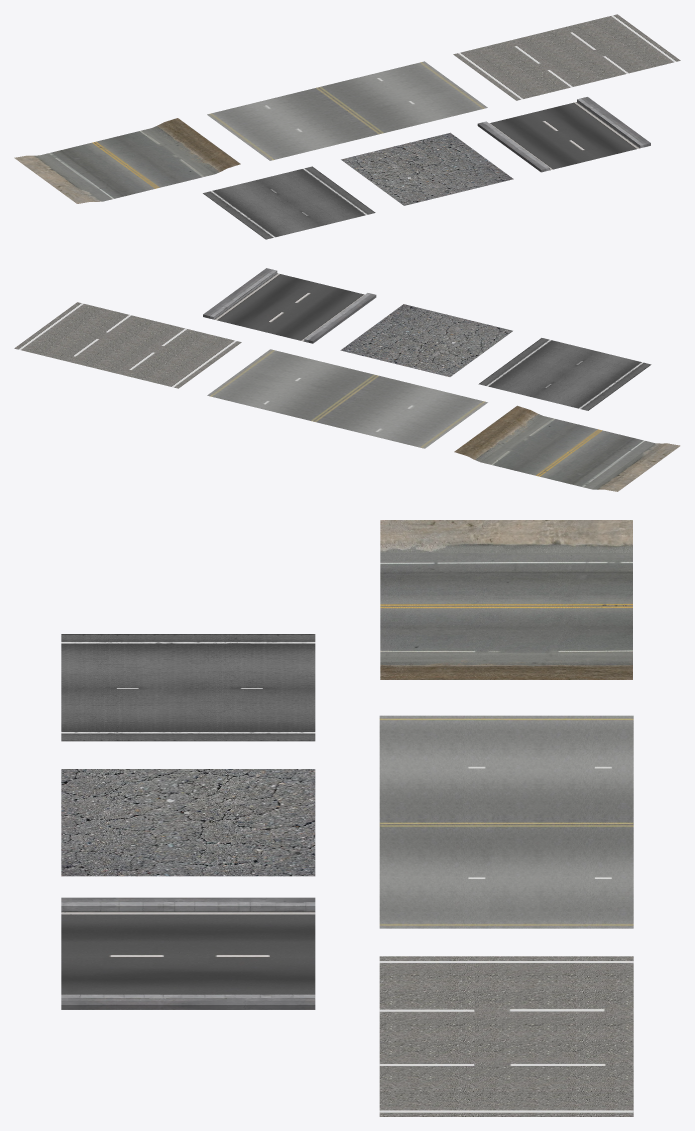
The model's file is low_road_-_2.glb.
The picture shows the model from 3 angles, top to bottom: view 1: azimuth 30°, elevation 25°; view 2: azimuth 150°, elevation 25°; view 3: azimuth 270°, elevation 25°; orthographic projection. The views are drawn at different scales.
Parts seen in each view (by area): view 1: Road 1_Material.003_0, Road 2_Material.002_0, Road 3_Material.001_0, Road 5_Material.006_0, Road 4_Material.004_0, Road 6_Material.005_0; view 2: Road 1_Material.003_0, Road 2_Material.002_0, Road 3_Material.001_0, Road 5_Material.006_0, Road 4_Material.004_0, Road 6_Material.005_0; view 3: Road 1_Material.003_0, Road 2_Material.002_0, Road 3_Material.001_0, Road 5_Material.006_0, Road 4_Material.004_0, Road 6_Material.005_0.
Boxes of the visible parts, bbox=[...] form: Road 1_Material.003_0: bbox=[207, 61, 487, 160]; Road 2_Material.002_0: bbox=[453, 14, 680, 100]; Road 3_Material.001_0: bbox=[14, 118, 240, 203]; Road 5_Material.006_0: bbox=[477, 97, 650, 172]; Road 4_Material.004_0: bbox=[203, 166, 375, 239]; Road 6_Material.005_0: bbox=[341, 132, 513, 205]; Road 1_Material.003_0: bbox=[207, 349, 487, 448]; Road 2_Material.002_0: bbox=[14, 302, 241, 388]; Road 3_Material.001_0: bbox=[454, 405, 680, 491]; Road 5_Material.006_0: bbox=[203, 268, 376, 343]; Road 4_Material.004_0: bbox=[478, 338, 651, 410]; Road 6_Material.005_0: bbox=[340, 304, 512, 376]; Road 1_Material.003_0: bbox=[379, 715, 633, 928]; Road 2_Material.002_0: bbox=[379, 956, 633, 1116]; Road 3_Material.001_0: bbox=[380, 520, 632, 679]; Road 5_Material.006_0: bbox=[61, 897, 315, 1009]; Road 4_Material.004_0: bbox=[61, 634, 315, 741]; Road 6_Material.005_0: bbox=[61, 769, 315, 876].
Bounding box in the file's own units: 21.97 × 0.1329 × 9.02.
Materials: 6 (6 with a texture image).
